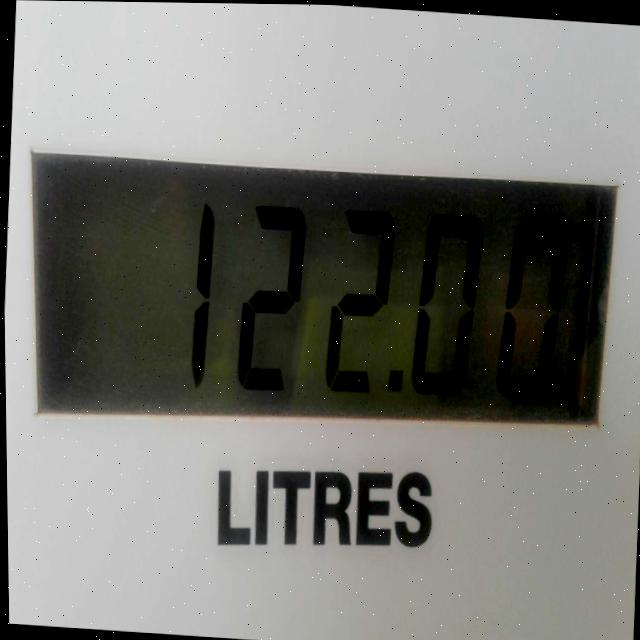.: (388, 366, 402, 399)
0: (495, 214, 568, 404), (412, 205, 482, 399)
1: (189, 194, 221, 389)
2: (324, 203, 395, 399), (233, 200, 301, 398)
